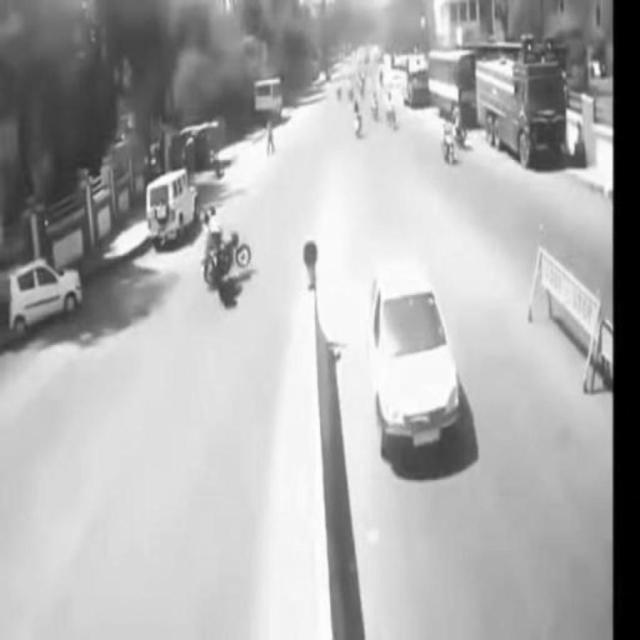accident: (199, 204, 253, 307)
vehicle: (370, 275, 463, 445), (479, 54, 572, 164), (14, 262, 84, 332), (149, 177, 199, 243)
